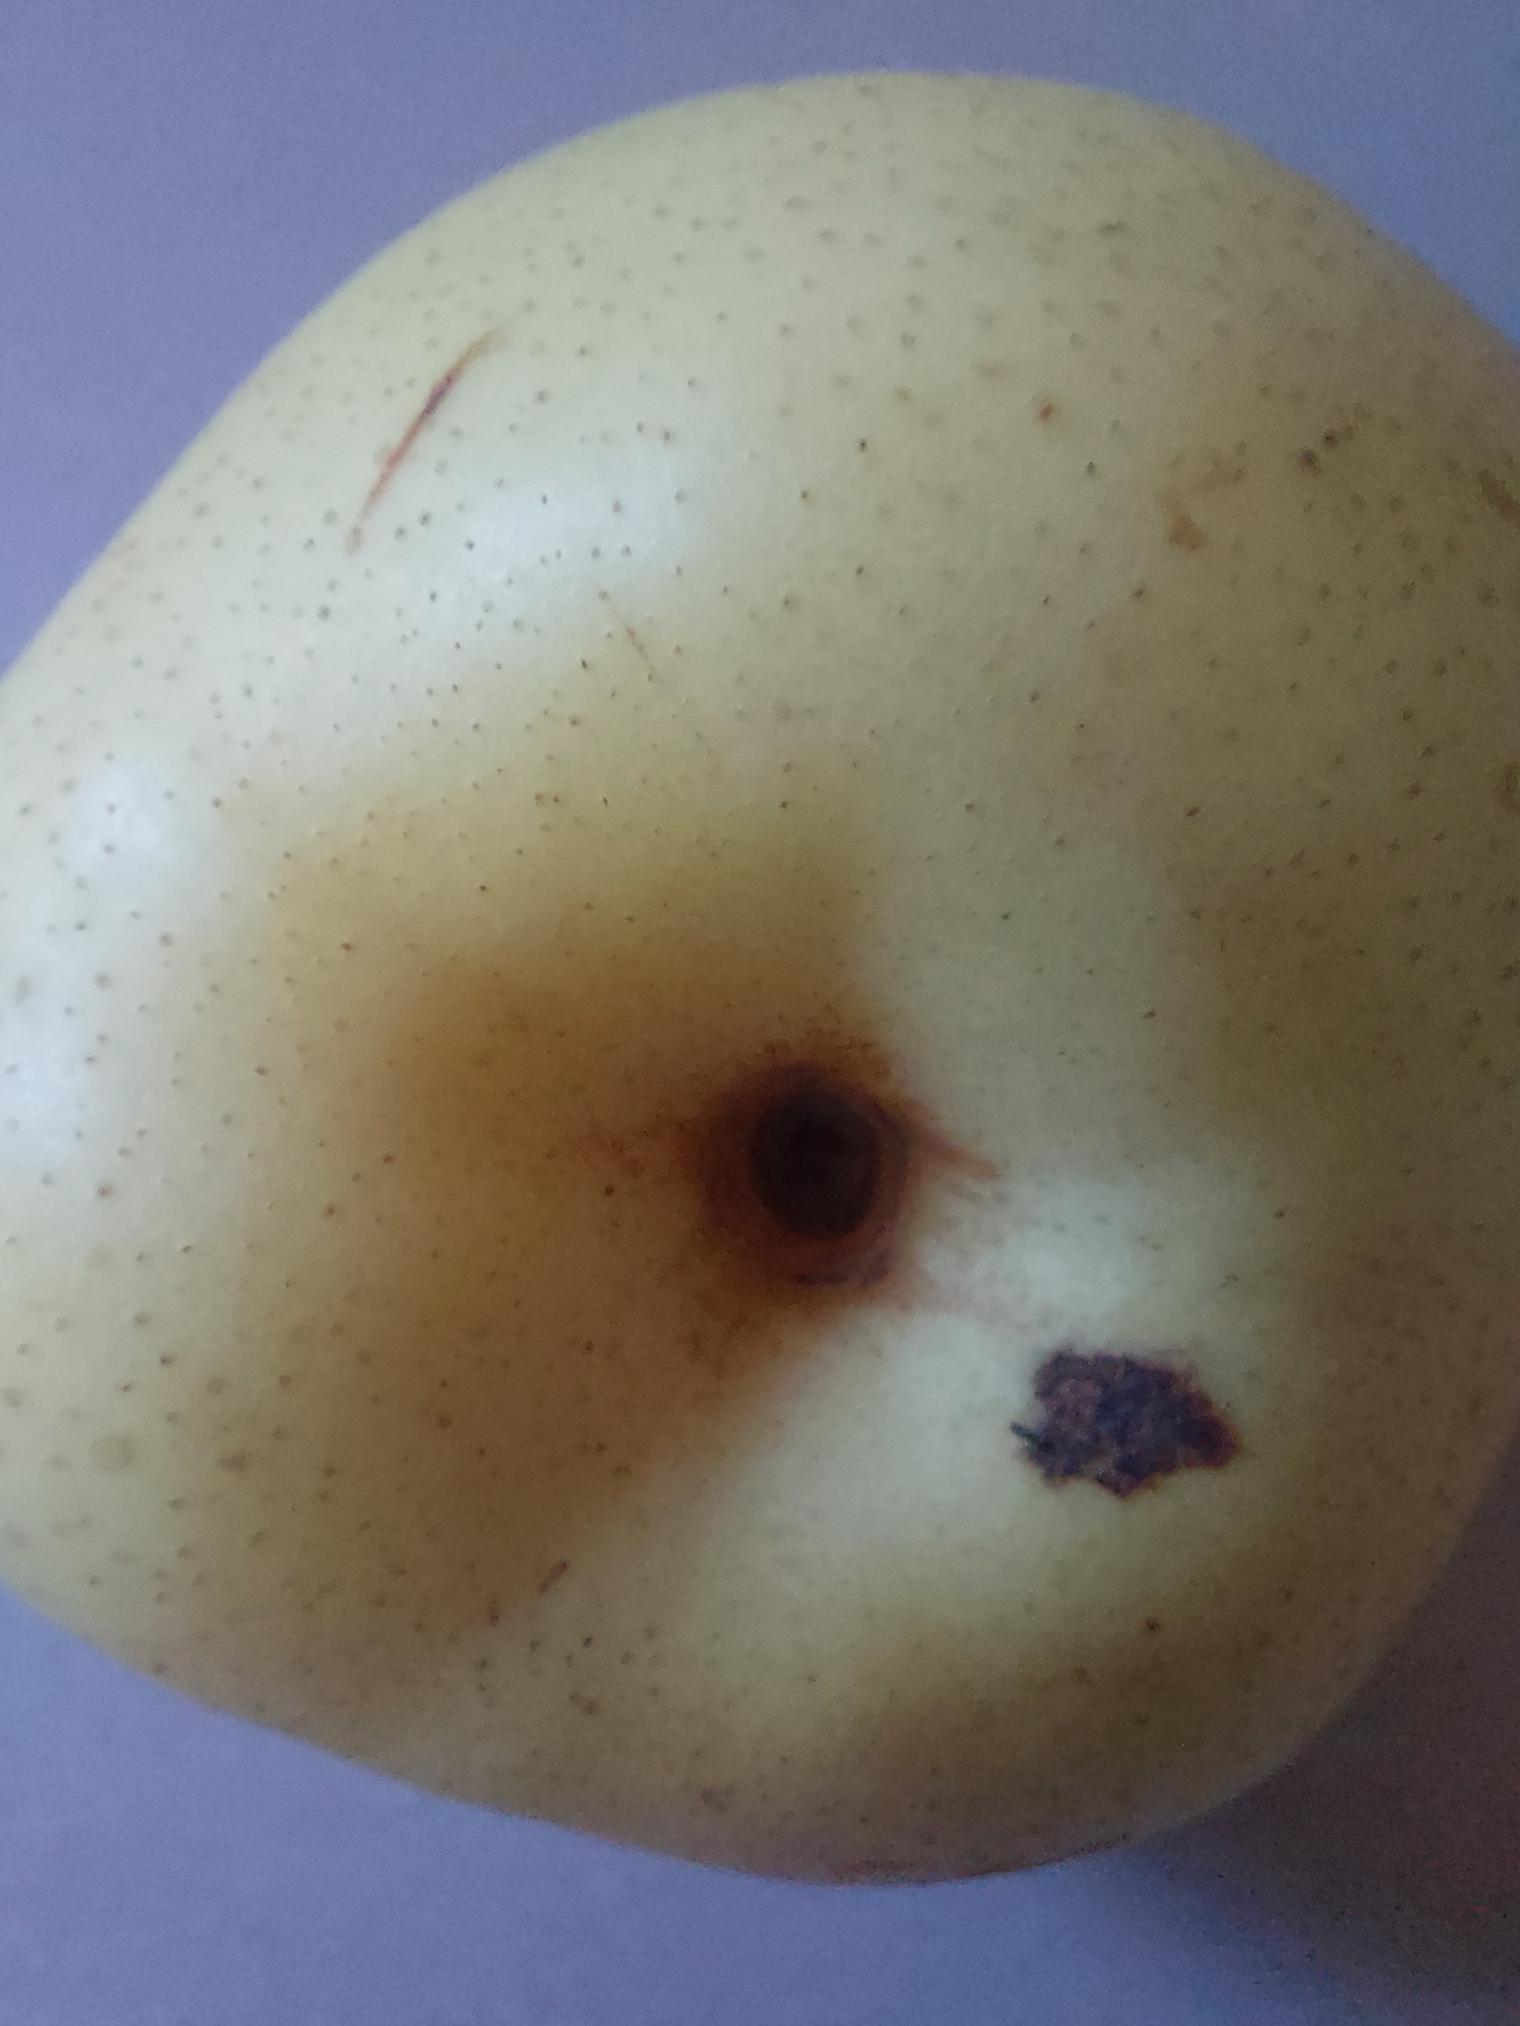Good Pear: (0, 56, 1520, 1903)
